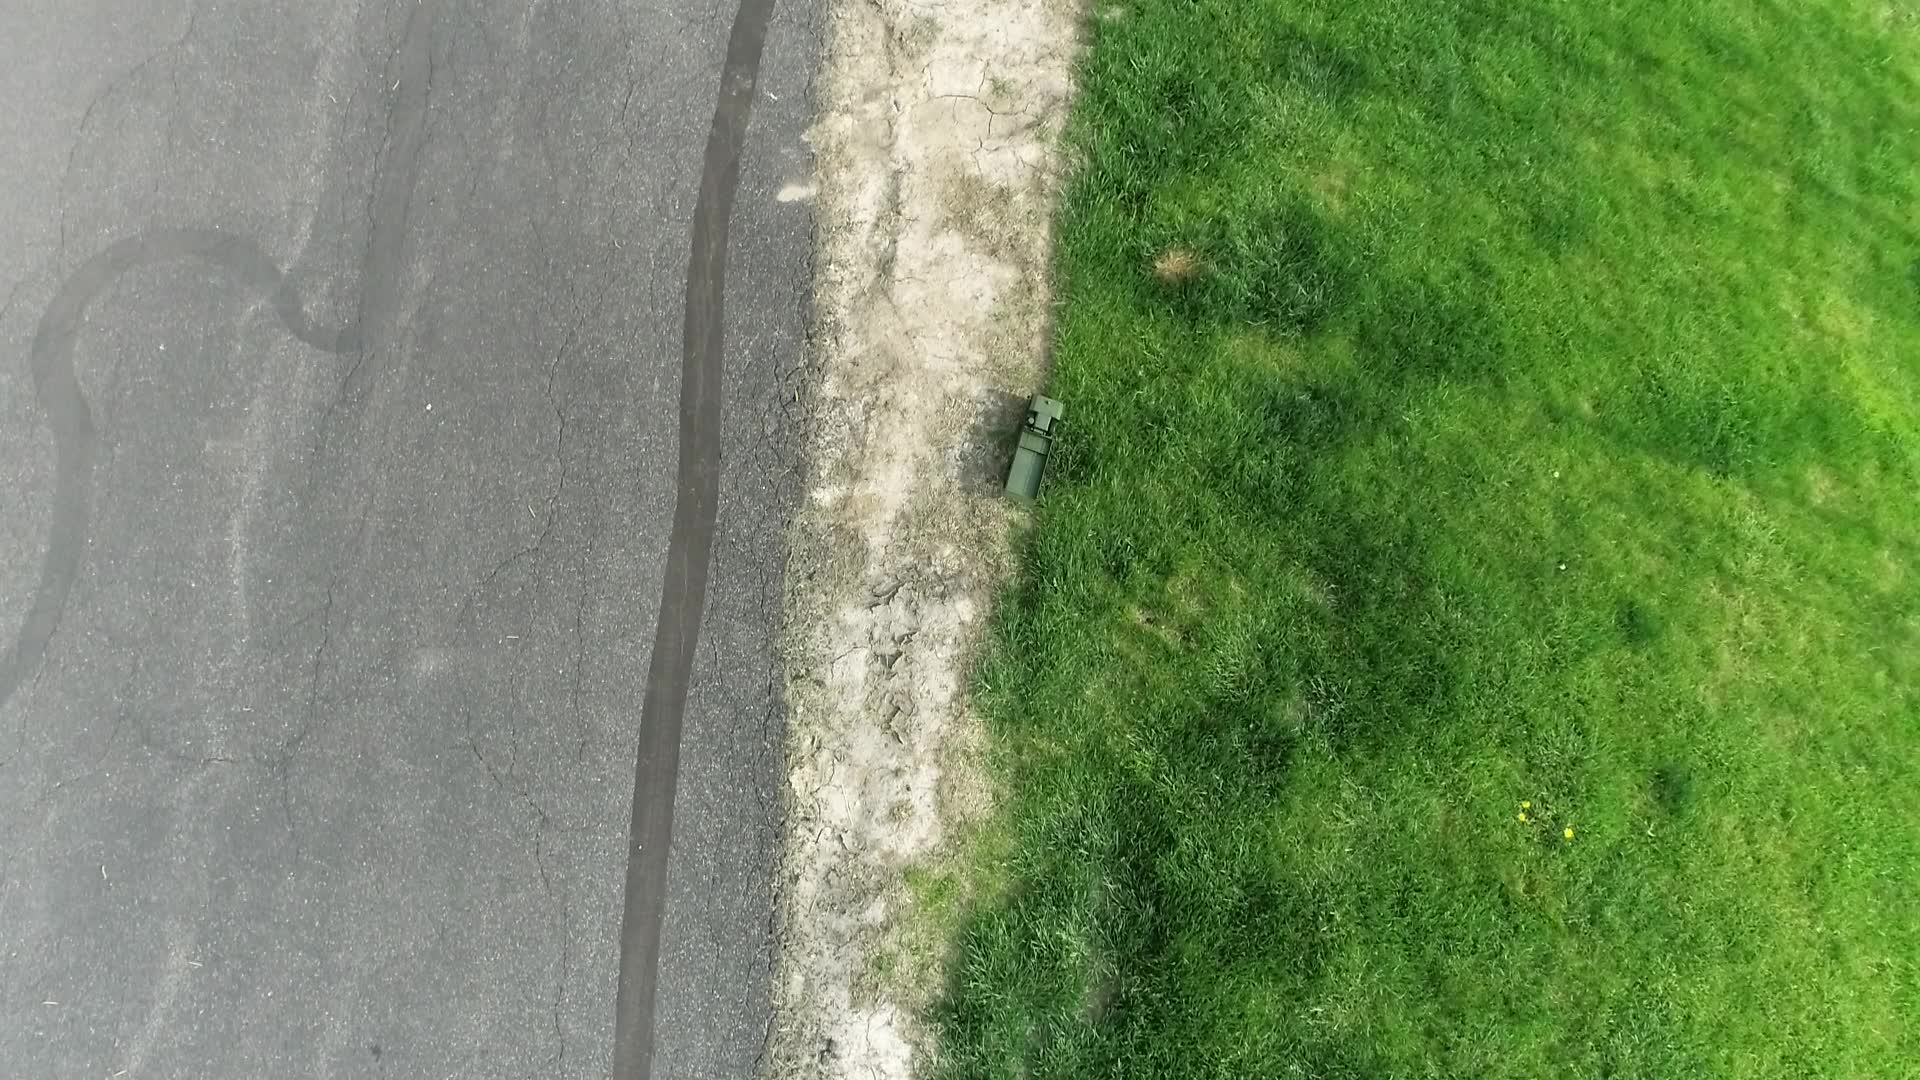transporter9: (996, 392, 1067, 508)
